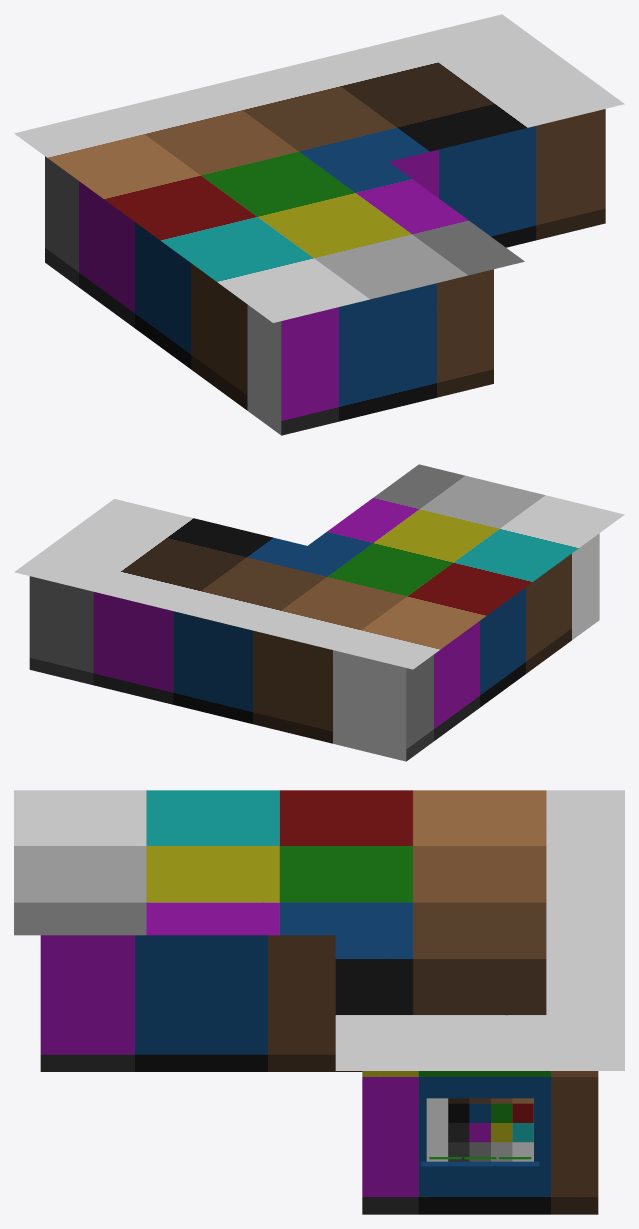
Rendered from apartment_living_room.fbx.
3 renders of one model, top to bottom at view 1: azimuth 30°, elevation 25°; view 2: azimuth 150°, elevation 25°; view 3: azimuth 270°, elevation 25°, orthographic. The views are drawn at different scales.
Parts seen in each view (by area): view 1: roof, wall_front_outside, wall_left_01_outside, wall_left_02_outside; view 2: roof, wall_right_outside, wall_front_outside; view 3: roof, wall_back_01_outside, wall_back_02_outside, window_glass, wall_back_02.
Part boxes in pixels (x1=…): roof: x1=14, y1=14, x2=624, y2=322; wall_front_outside: x1=45, y1=156, x2=281, y2=434; wall_left_01_outside: x1=281, y1=269, x2=493, y2=435; wall_left_02_outside: x1=389, y1=109, x2=605, y2=247; roof: x1=14, y1=464, x2=624, y2=669; wall_right_outside: x1=29, y1=576, x2=406, y2=761; wall_front_outside: x1=406, y1=533, x2=599, y2=761; roof: x1=14, y1=790, x2=624, y2=1070; wall_back_01_outside: x1=40, y1=935, x2=362, y2=1071; wall_back_02_outside: x1=362, y1=1071, x2=598, y2=1214; window_glass: x1=426, y1=1098, x2=533, y2=1161; wall_back_02: x1=421, y1=1098, x2=539, y2=1161.
Size of the model in its own units: 1240 by 305 by 1140.
